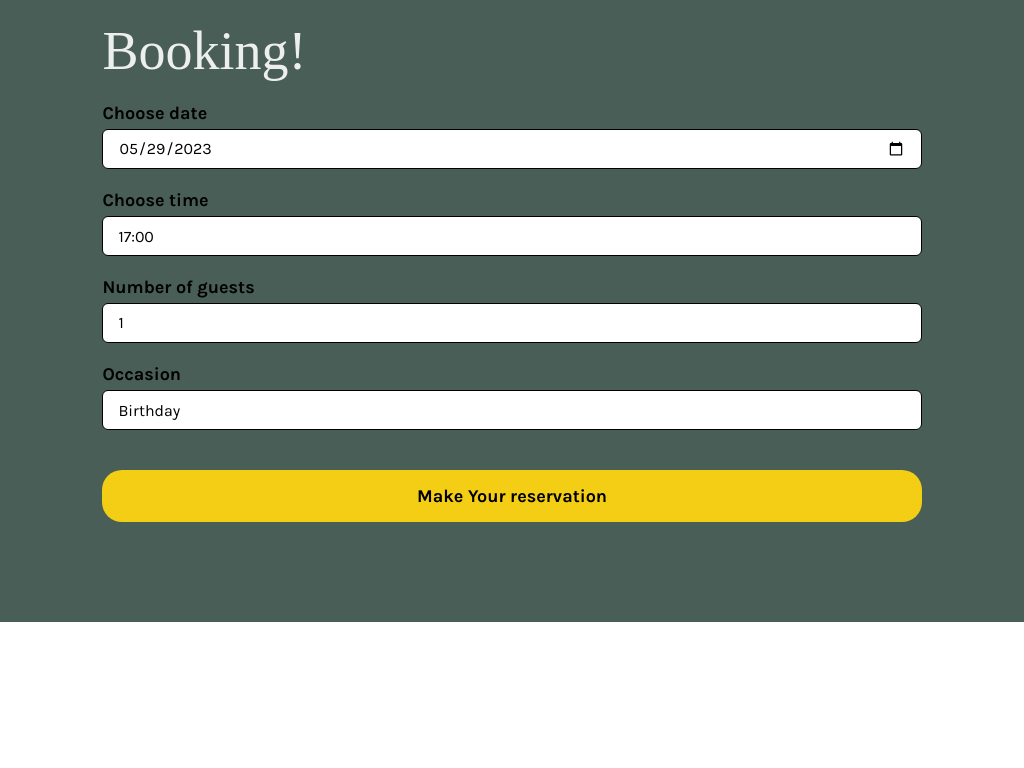
Testing BookingForm › Validates the booking form submission
Replace the text in the number field with test id "res-guests" with "0" at (512, 323), box [102,303,922,343]
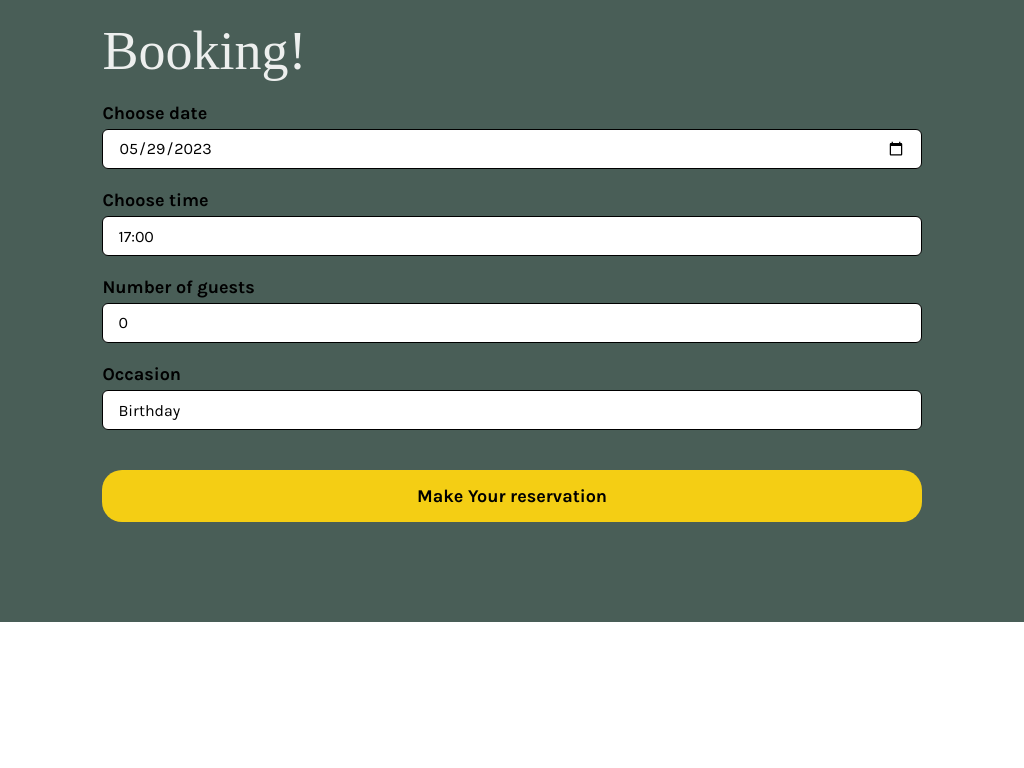
Click the button with test id "form-submit" at (512, 496), box [102,470,922,522]
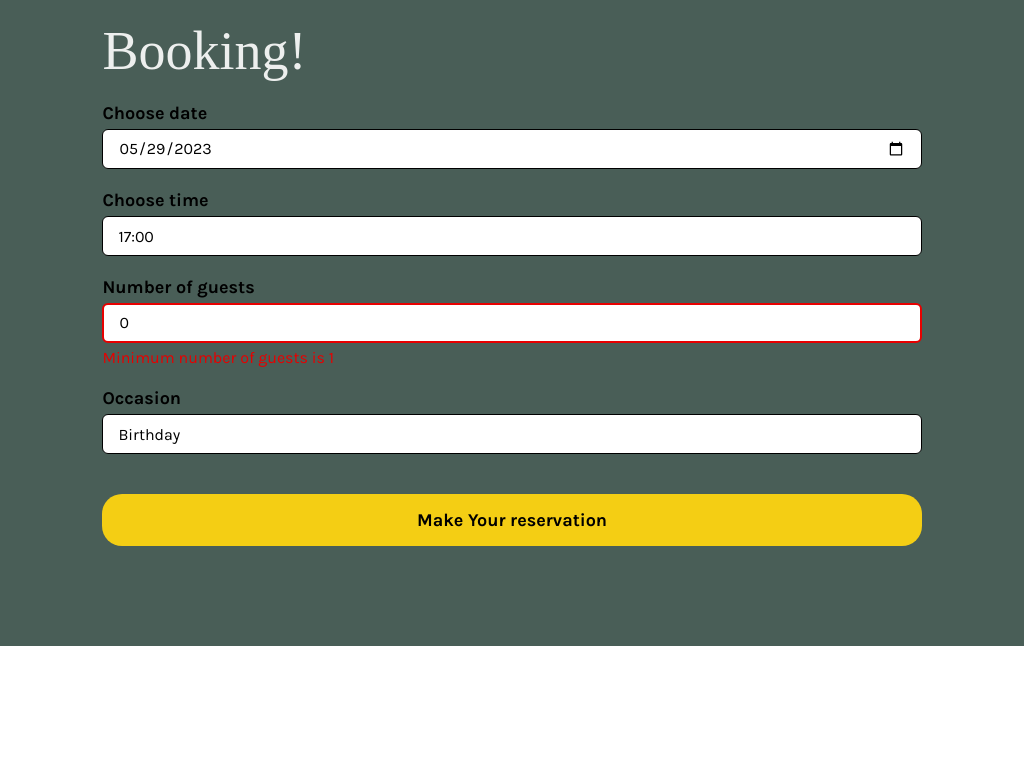
Now the text "Minimum number of guests is 1" is shown, box [102,348,334,367]
